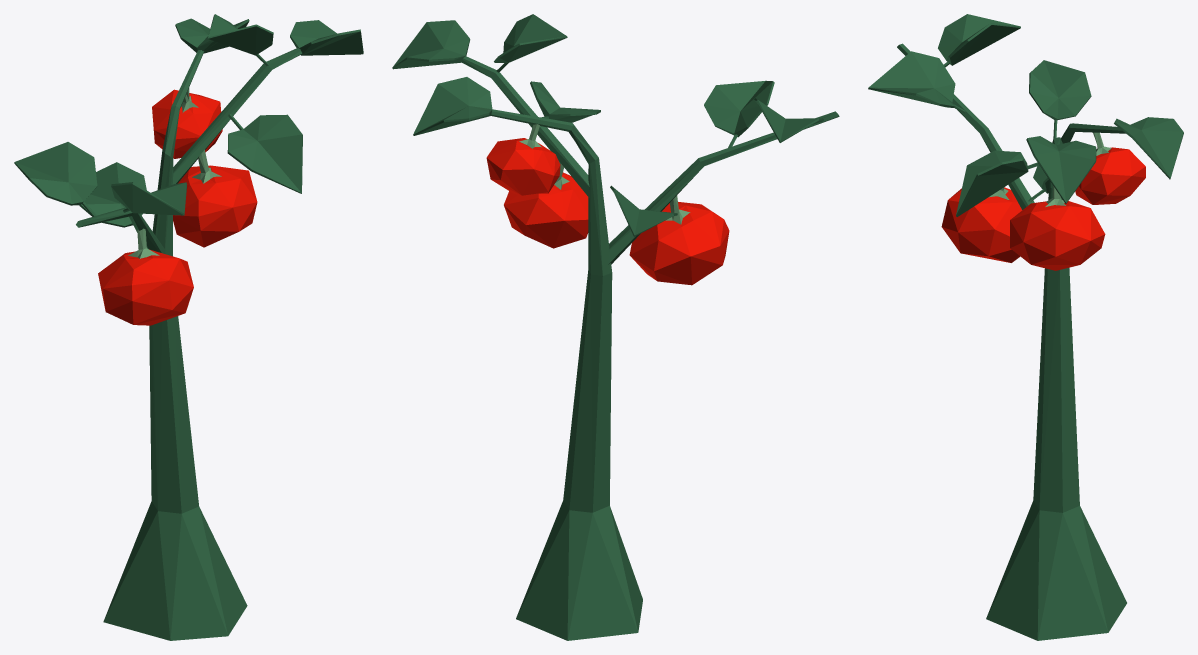
Rendered from mod_vg_tomatoM.fbx.
3 renders of one model, left to right at view 1: azimuth 30°, elevation 25°; view 2: azimuth 150°, elevation 25°; view 3: azimuth 270°, elevation 25°, orthographic. The views are drawn at different scales.
Parts seen in each view (by area): view 1: TigeTomate.001; view 2: TigeTomate.001; view 3: TigeTomate.001.
Part boxes in pixels (box(x1,y1,x2,y2)): TigeTomate.001: box(14, 14, 363, 640); TigeTomate.001: box(392, 14, 839, 640); TigeTomate.001: box(868, 14, 1183, 640).
Size of the model in its own units: 59.77 by 86.4 by 43.32.
